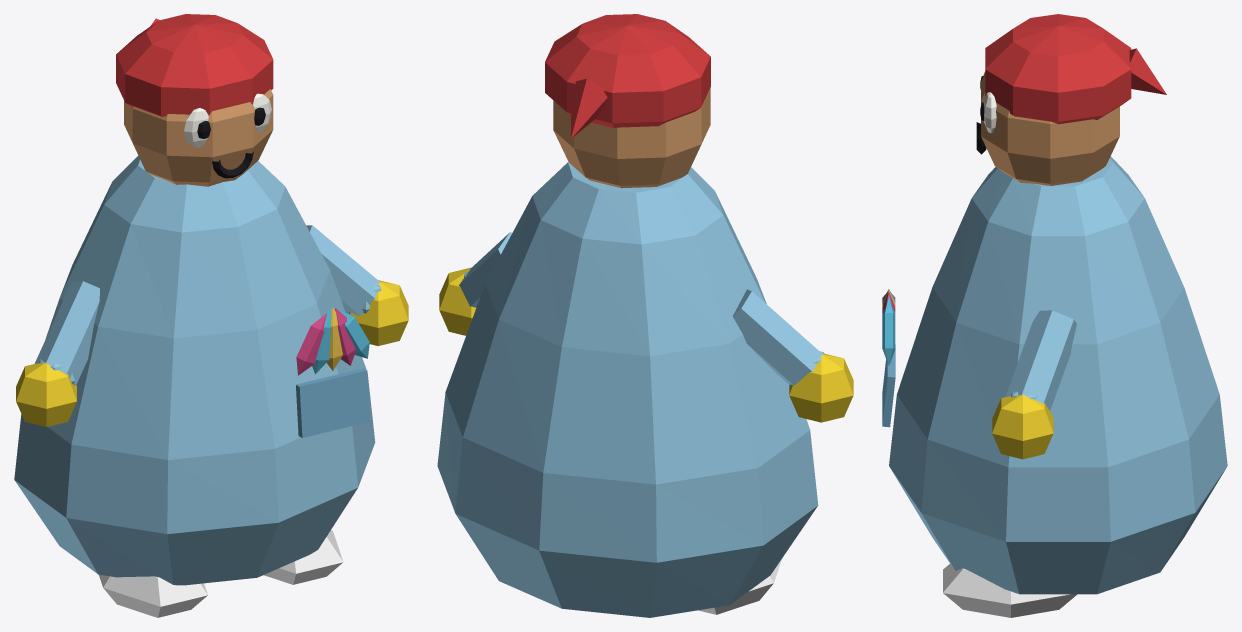
File: npc_limpieza.glb
3 renders of one model, left to right at view 1: azimuth 30°, elevation 25°; view 2: azimuth 150°, elevation 25°; view 3: azimuth 270°, elevation 25°, orthographic. The views are drawn at different scales.
Visible parts, largest first — view 1: body_smock_blue, head_kerchief_red, head_skin_arena, arms_smock_blue, arms_rubber_yellow, legs_clog_white, body_smock_pocket, props_feather (×5), face_white, face_black; view 2: body_smock_blue, head_kerchief_red, head_skin_arena, arms_smock_blue, arms_rubber_yellow, legs_clog_white; view 3: body_smock_blue, head_kerchief_red, head_skin_arena, arms_smock_blue, legs_clog_white, arms_rubber_yellow, body_smock_pocket, props_feather.
Boxes of the visible parts, box(x1,y1,x2,y2) form: body_smock_blue: box(14, 155, 375, 585); head_kerchief_red: box(116, 14, 273, 116); head_skin_arena: box(124, 89, 273, 186); arms_smock_blue: box(34, 225, 381, 385); arms_rubber_yellow: box(16, 280, 408, 426); legs_clog_white: box(99, 529, 343, 617); body_smock_pocket: box(296, 368, 369, 437); props_feather (×5): box(296, 308, 369, 375); face_white: box(184, 93, 271, 147); face_black: box(197, 107, 265, 178); body_smock_blue: box(437, 162, 818, 617); head_kerchief_red: box(545, 14, 710, 138); head_skin_arena: box(553, 88, 710, 188); arms_smock_blue: box(459, 232, 824, 385); arms_rubber_yellow: box(439, 267, 853, 422); legs_clog_white: box(698, 559, 781, 614); body_smock_blue: box(889, 156, 1227, 594); head_kerchief_red: box(985, 14, 1166, 124); head_skin_arena: box(981, 73, 1119, 185); arms_smock_blue: box(1005, 310, 1076, 410); legs_clog_white: box(943, 564, 1076, 617); arms_rubber_yellow: box(992, 394, 1053, 459); body_smock_pocket: box(882, 344, 895, 427); props_feather: box(882, 296, 895, 365).
Bounding box in the file's own units: 1.16 × 1.54 × 0.8769.
